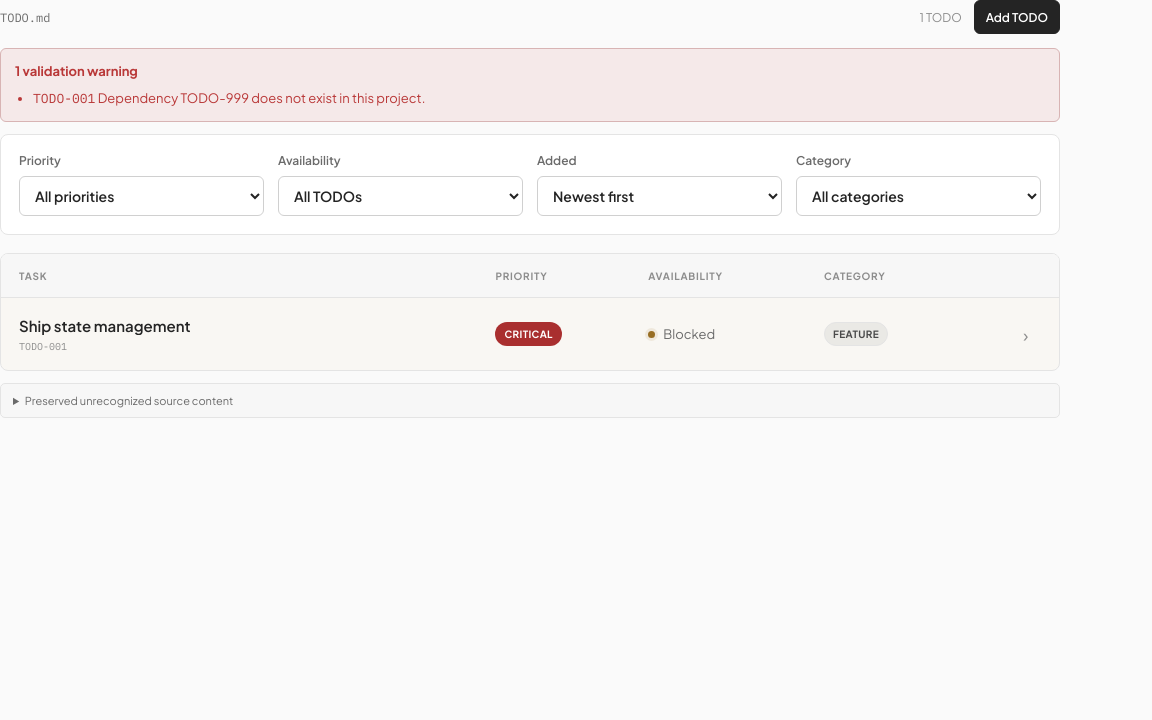
Test: structured project state › shows TODOs in a compact list and opens details in a closable window
The width and height of the screenshot is (1152, 720).
Expected: the text "critical" is shown, [495, 322, 562, 346]
Expected: the text "blocked" is shown, [648, 326, 715, 342]
Step 1. Click the button with aria-label "Open Ship state management" → (530, 334), box [1, 298, 1059, 370]
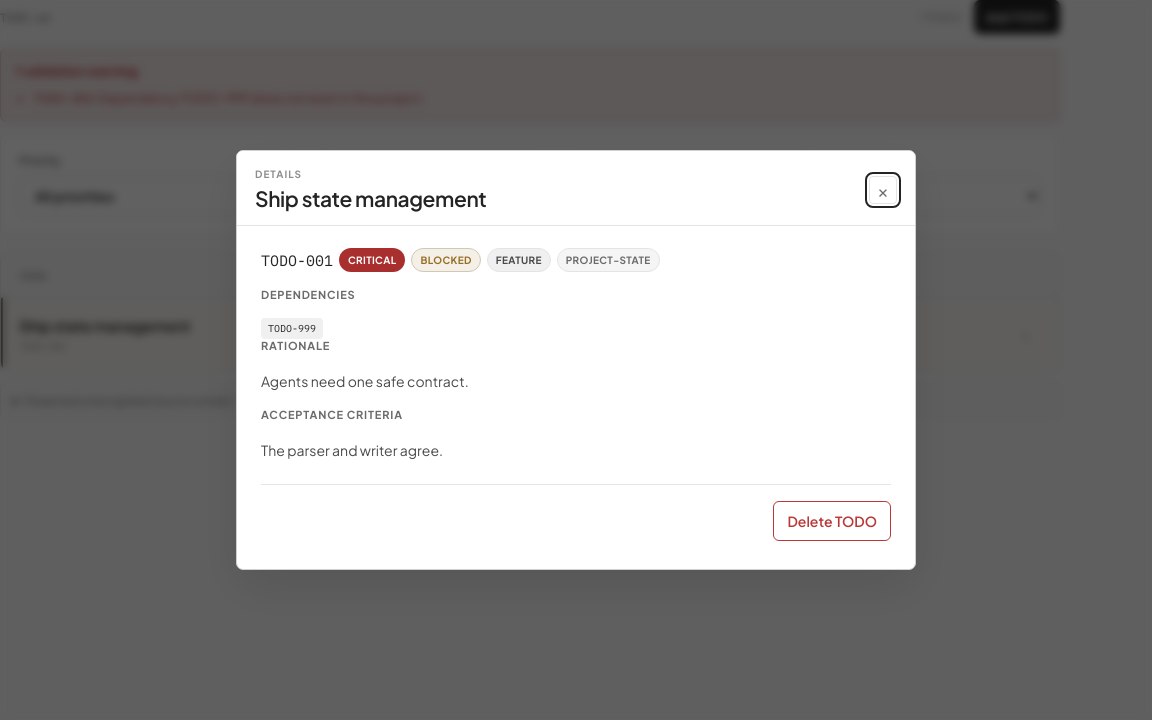
Expected: the dialog "Ship state management" is shown, [236, 150, 916, 570]
Expected: the element named "TODO dependencies" reads "TODO-999", [268, 322, 316, 335]
Expected: the text "Agents need one safe contract." is shown, [261, 372, 469, 390]
Step 2. Click the button named "Close details" → (883, 190), box [869, 176, 897, 204]
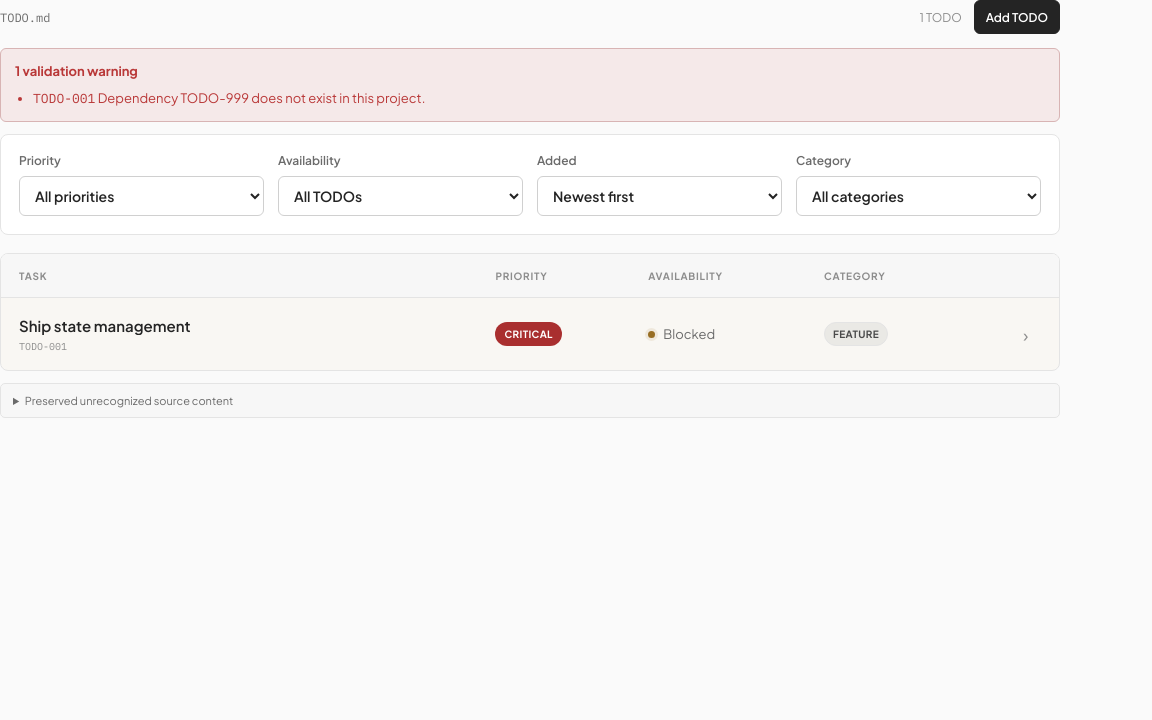
Expected: the message shows "TODO-999", [98, 90, 425, 106]
Expected: the dialog is gone
